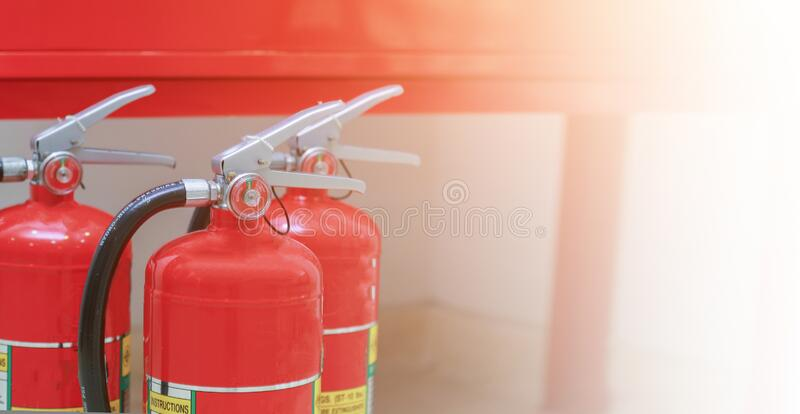fire_extinguisher: (76, 84, 420, 413), (77, 170, 326, 413), (0, 83, 177, 413), (262, 150, 383, 413)
